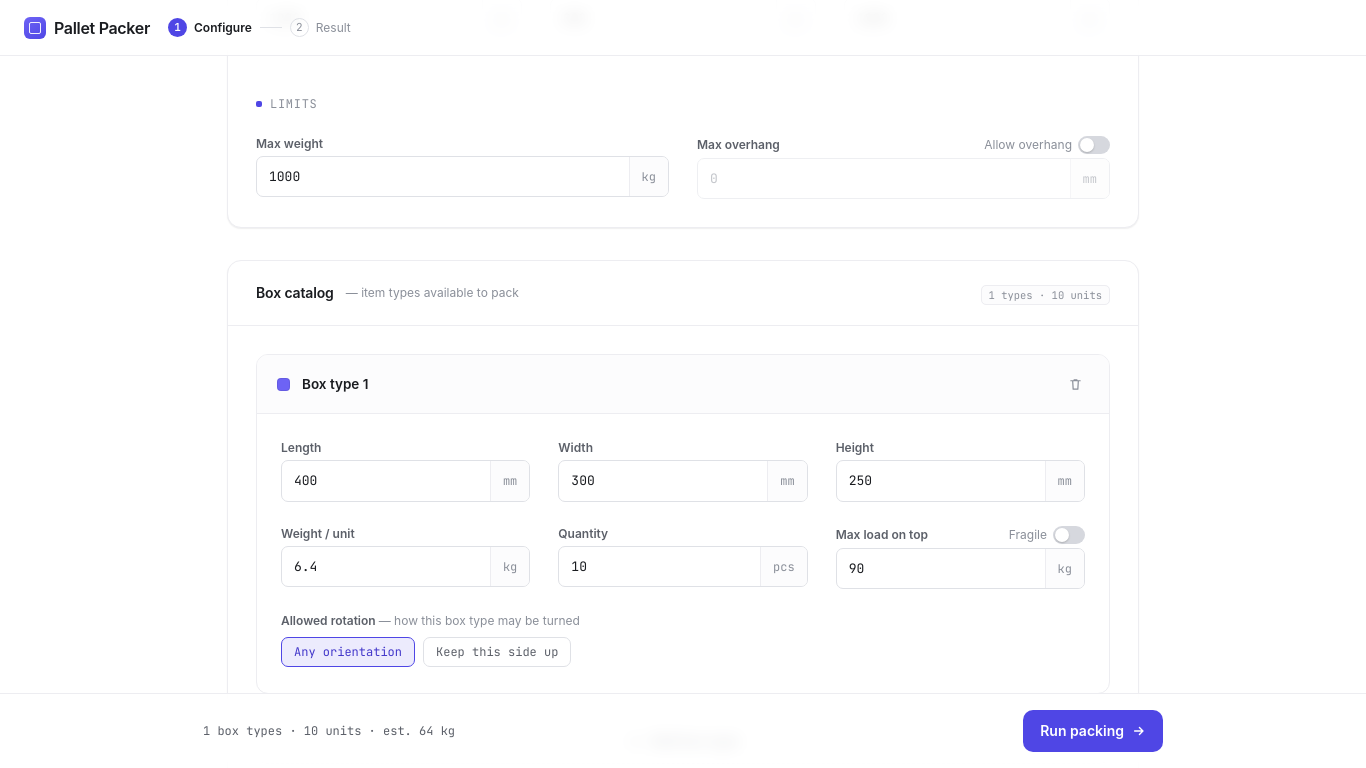
ConfigForm — Run gate (D-06) › an empty catalog blocks Run with "Add at least one box type" (D-02)
(page scrolled)
Note: Remove the single default box type → empty catalog.
Click the button named "Remove " at (1075, 384), box top-left (1061, 370), bottom-right (1089, 398)
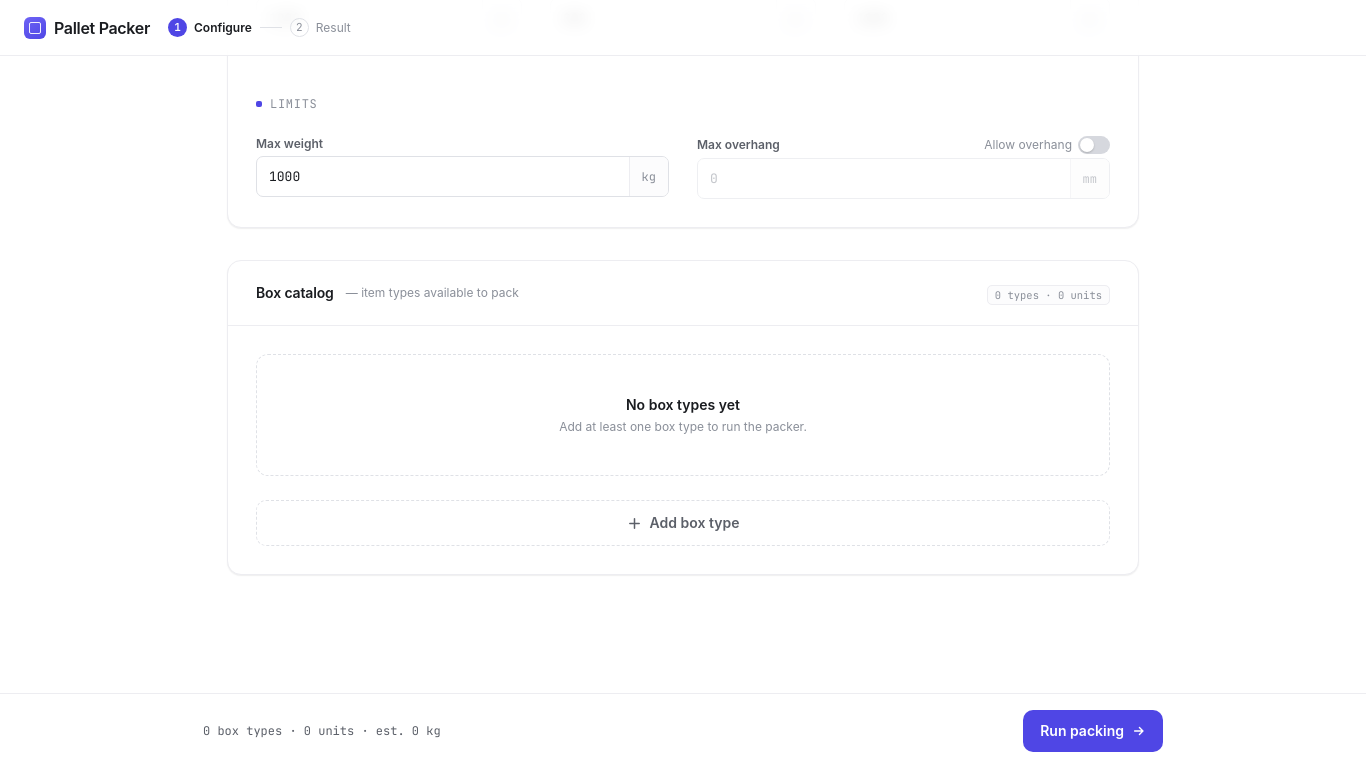
Click the button "Run packing" at (1093, 731), box top-left (1023, 710), bottom-right (1163, 752)
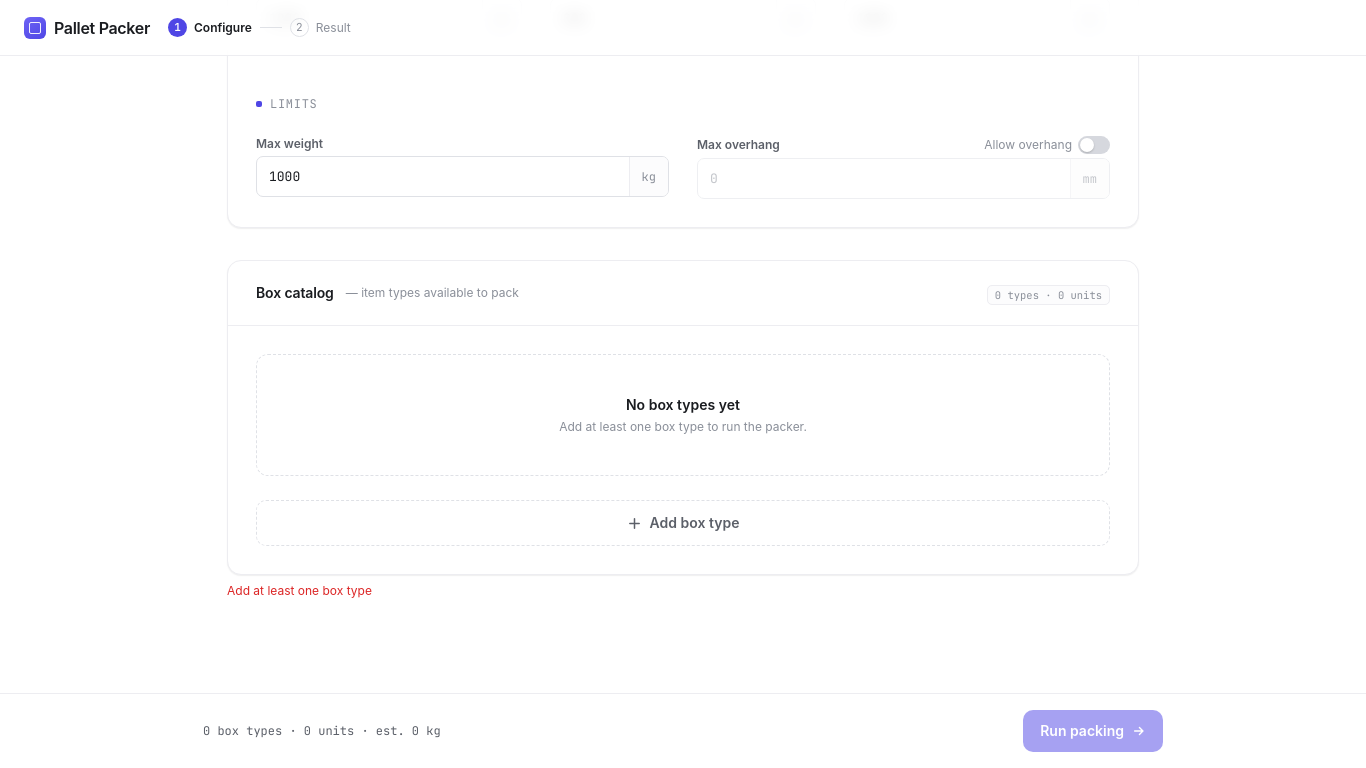
Now the text "Add at least one box type" is shown, box top-left (227, 583), bottom-right (372, 598)
